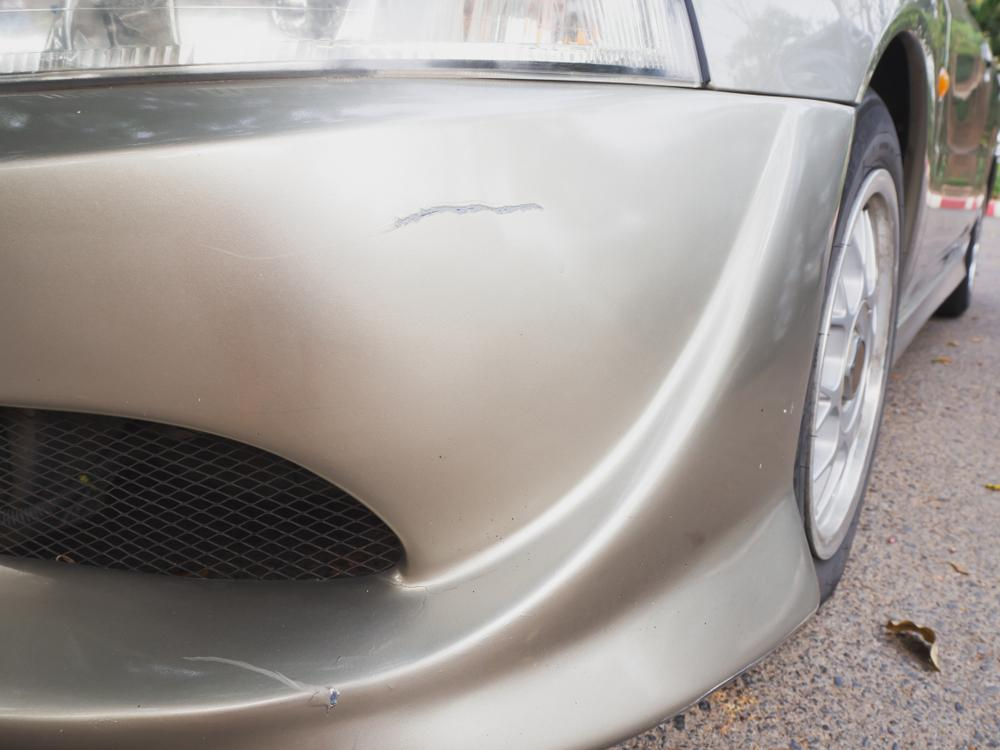scratch: (182, 649, 342, 712), (383, 201, 546, 234)
